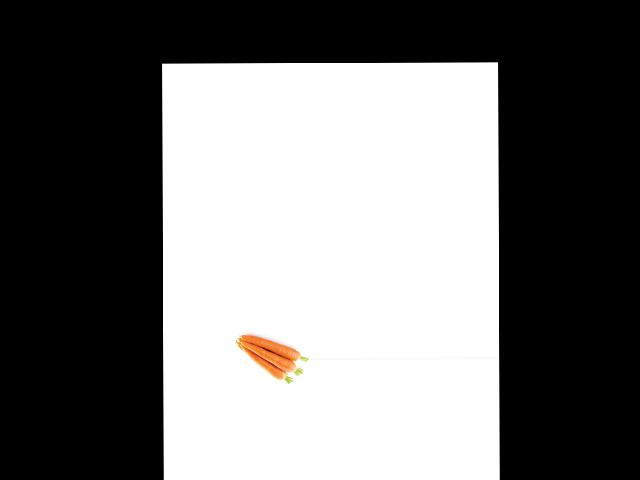carrot: (241, 335, 298, 362)
